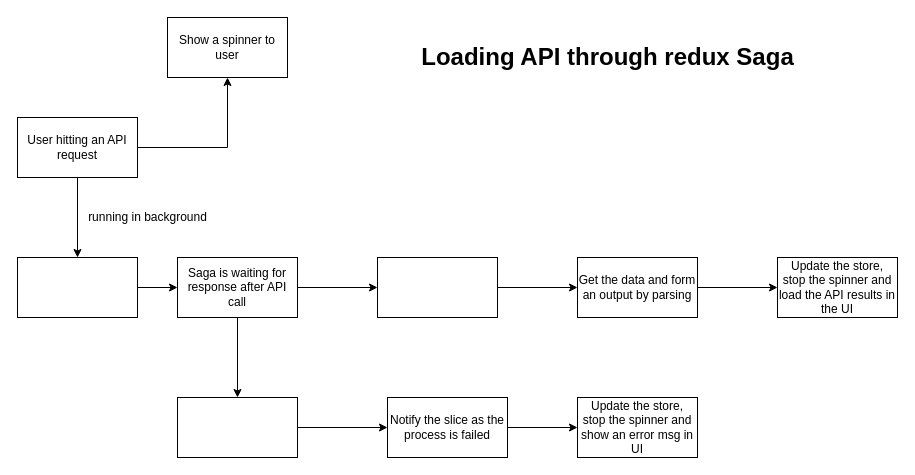
The diagram is 915 pixels wide and 475 high, and some of its shapes have lost their labels. The centre of each missing label's shape, as x and y in pixels:
If API fetch is failed: [237,427]
If API fetch is success: [437,287]
Notify saga to load the data from API: [77,287]
